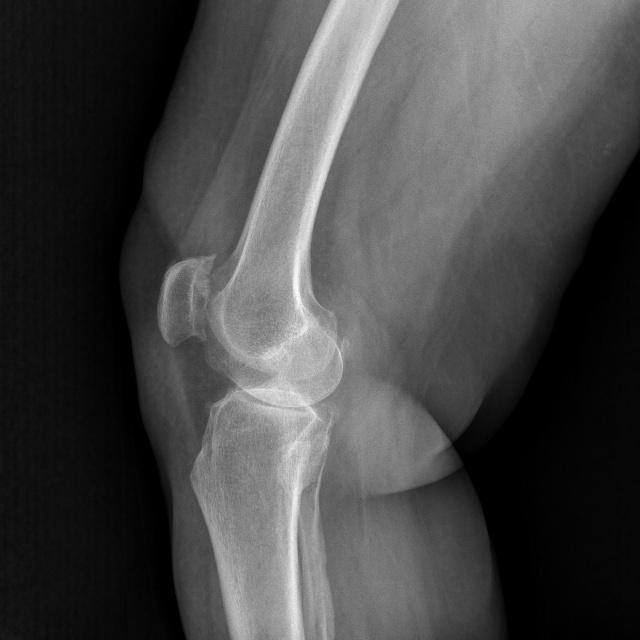Knee: (149, 246, 346, 485)
